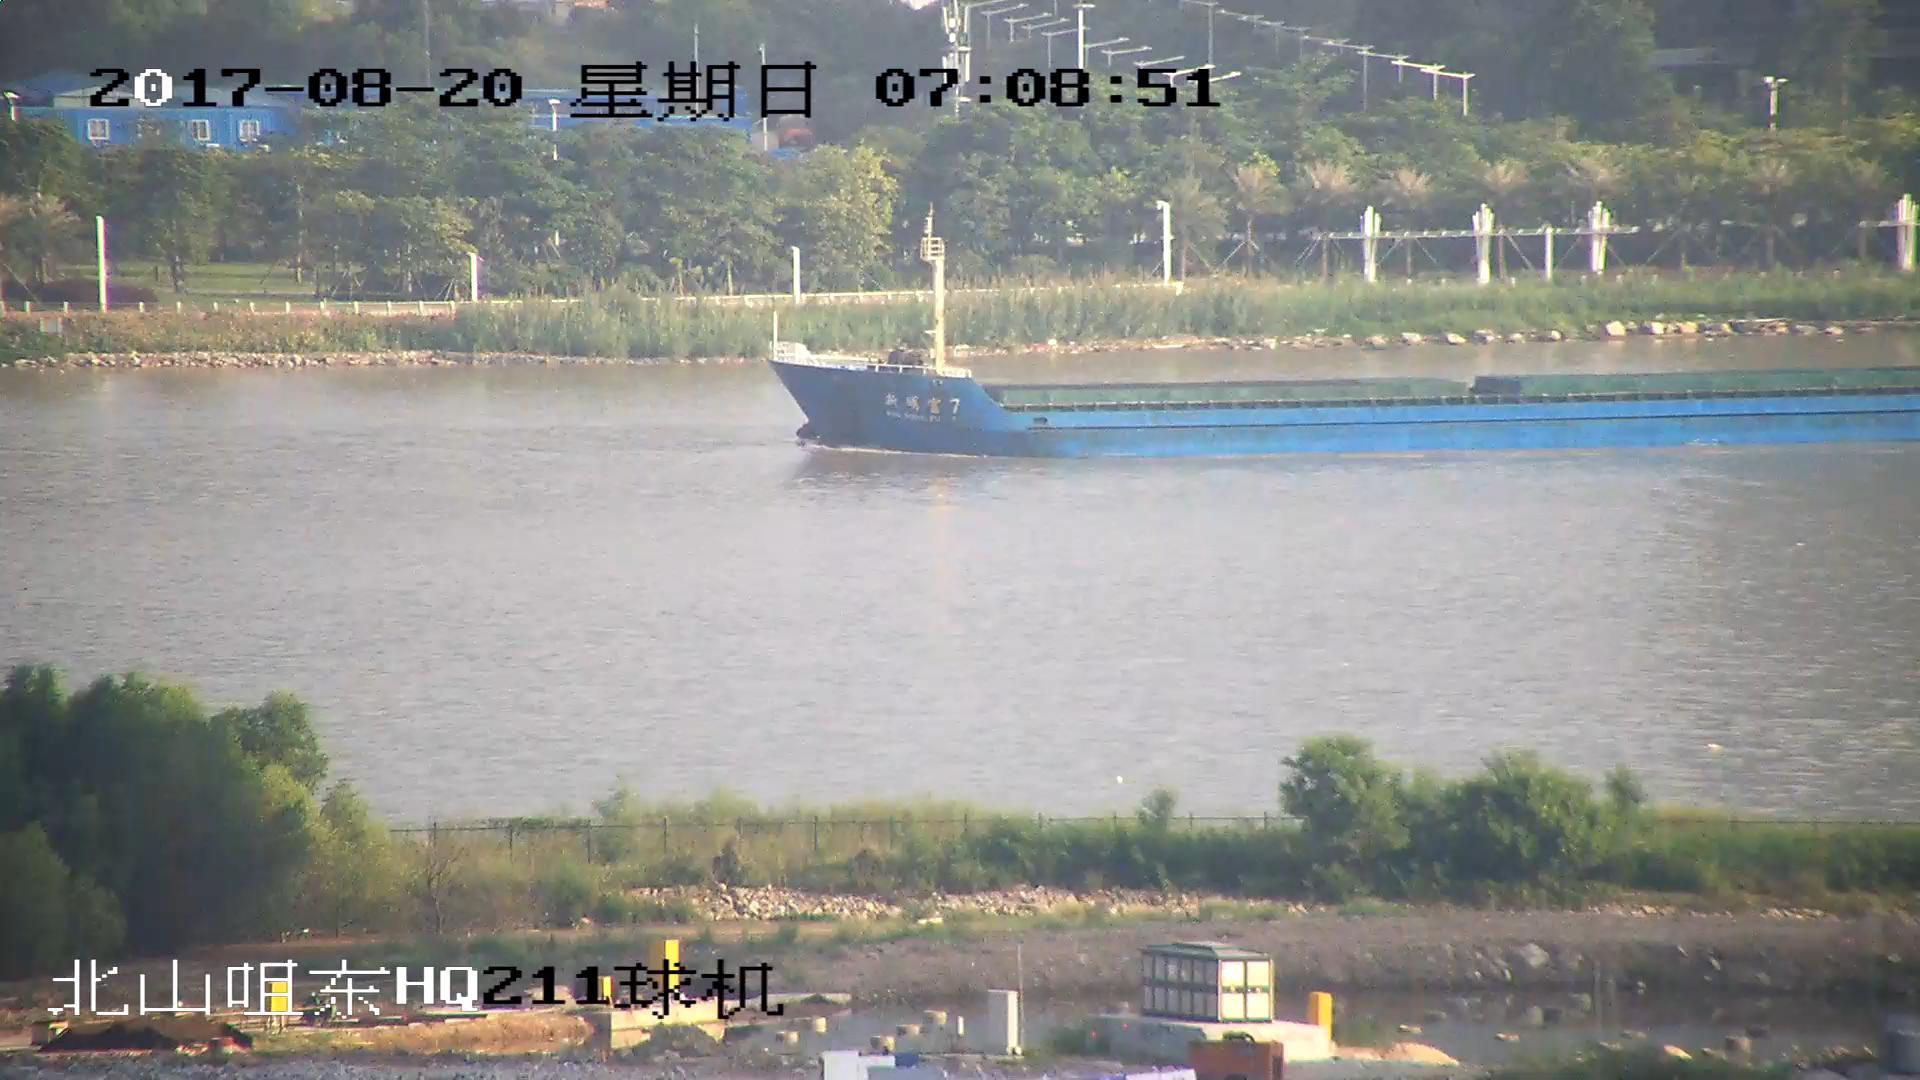Ship: (767, 237, 1920, 464)
